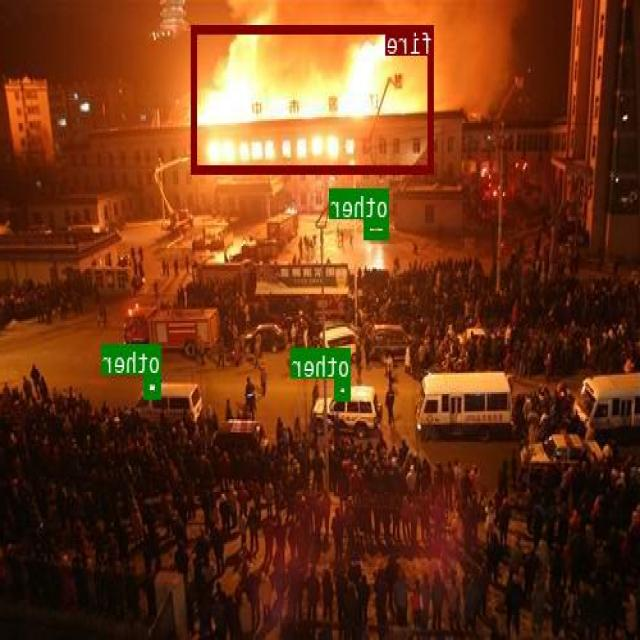fire: (192, 24, 435, 172)
other: (366, 219, 390, 238), (146, 375, 162, 396), (336, 378, 351, 398)
